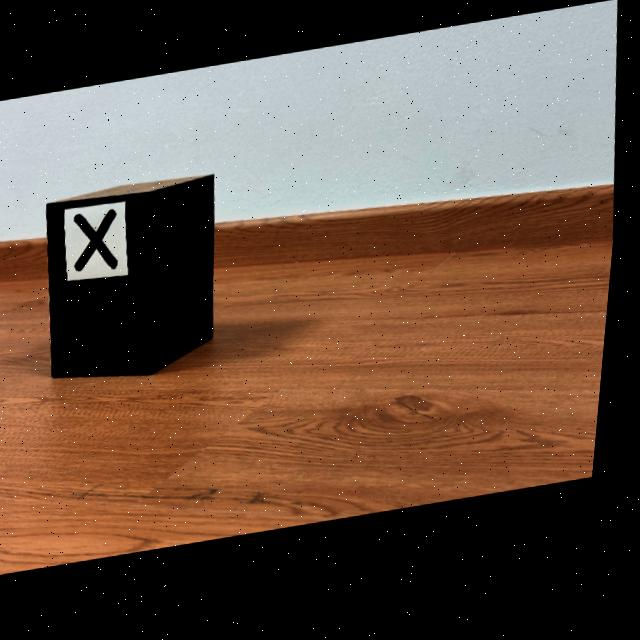X: (78, 213, 122, 273)
